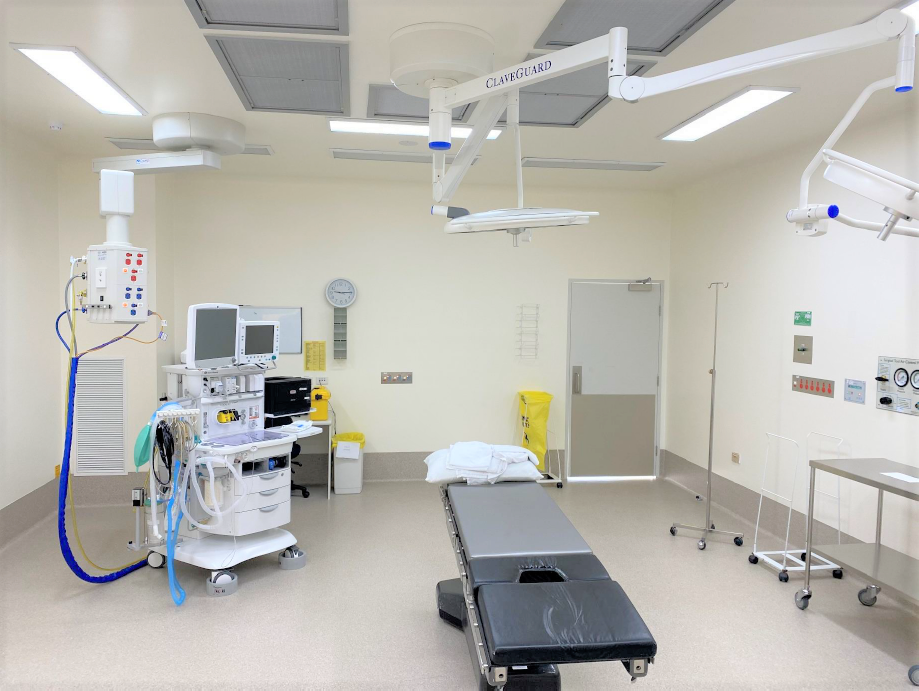bedside_monitor: (185, 304, 238, 367), (237, 322, 279, 365)
breathing_tube: (180, 413, 246, 531)
chair: (264, 415, 310, 498)
door_handle: (572, 373, 581, 394)
handle: (257, 487, 280, 497), (259, 472, 279, 483), (258, 505, 279, 513)
iv_pole: (706, 279, 731, 527)
operating_bed: (425, 443, 658, 691)
surgical_light: (816, 141, 919, 256), (443, 206, 600, 247)
utility_cart: (799, 457, 919, 651)
ventilator: (133, 359, 297, 598)
waste_bin: (514, 390, 563, 489), (331, 432, 365, 496)
